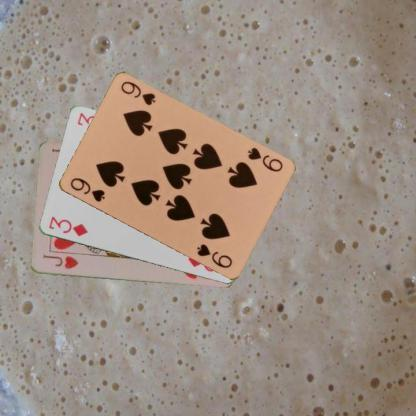3d: (46, 214, 90, 238)
9s: (66, 174, 107, 204), (244, 144, 284, 173)
Jh: (40, 252, 80, 270)
